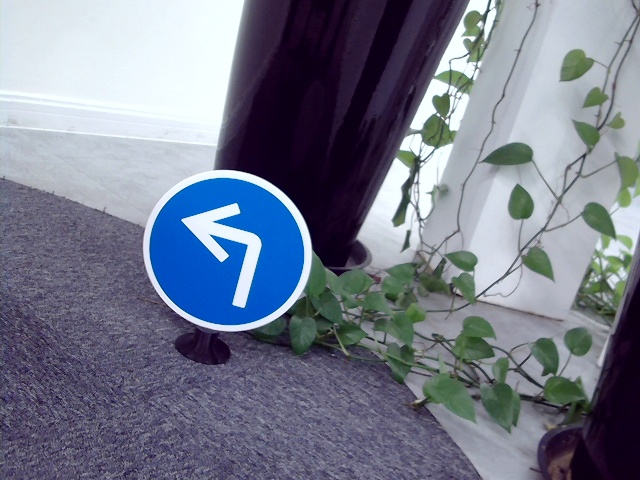turn_left: (179, 193, 263, 312)
